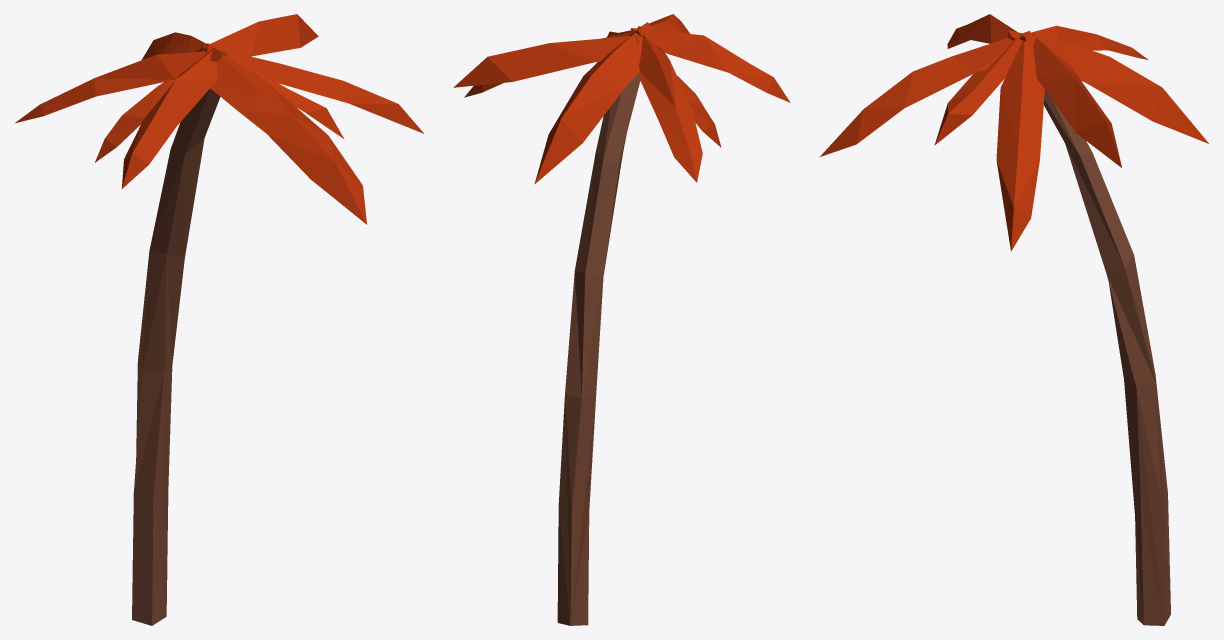
Rendered from Tree_09_summer_red_vc.fbx.
3 renders of one model, left to right at view 1: azimuth 30°, elevation 25°; view 2: azimuth 150°, elevation 25°; view 3: azimuth 270°, elevation 25°, orthographic. The views are drawn at different scales.
Visible parts, largest first — view 1: Tree_09_summer_red_vc; view 2: Tree_09_summer_red_vc; view 3: Tree_09_summer_red_vc.
Part boxes in pixels (<box>): Tree_09_summer_red_vc: <box>15,14,423,625</box>; Tree_09_summer_red_vc: <box>453,14,790,625</box>; Tree_09_summer_red_vc: <box>820,14,1208,625</box>.
Size of the model in its own units: 128 by 228 by 137.
